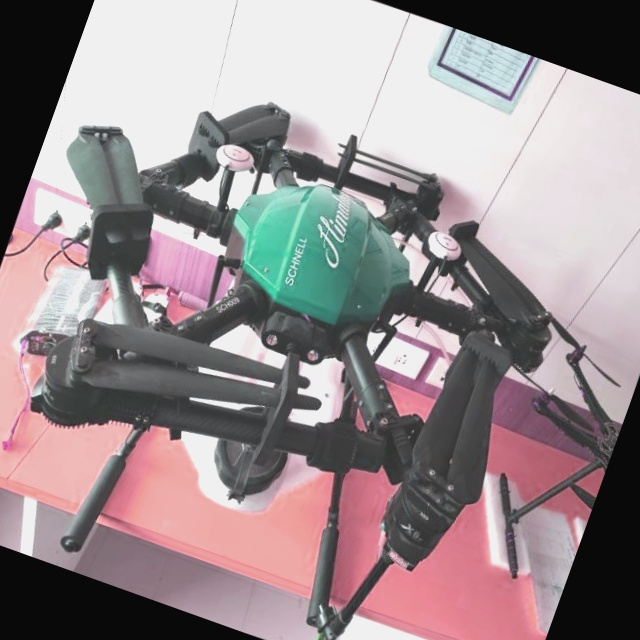agriculturedrone: (0, 23, 640, 640)
